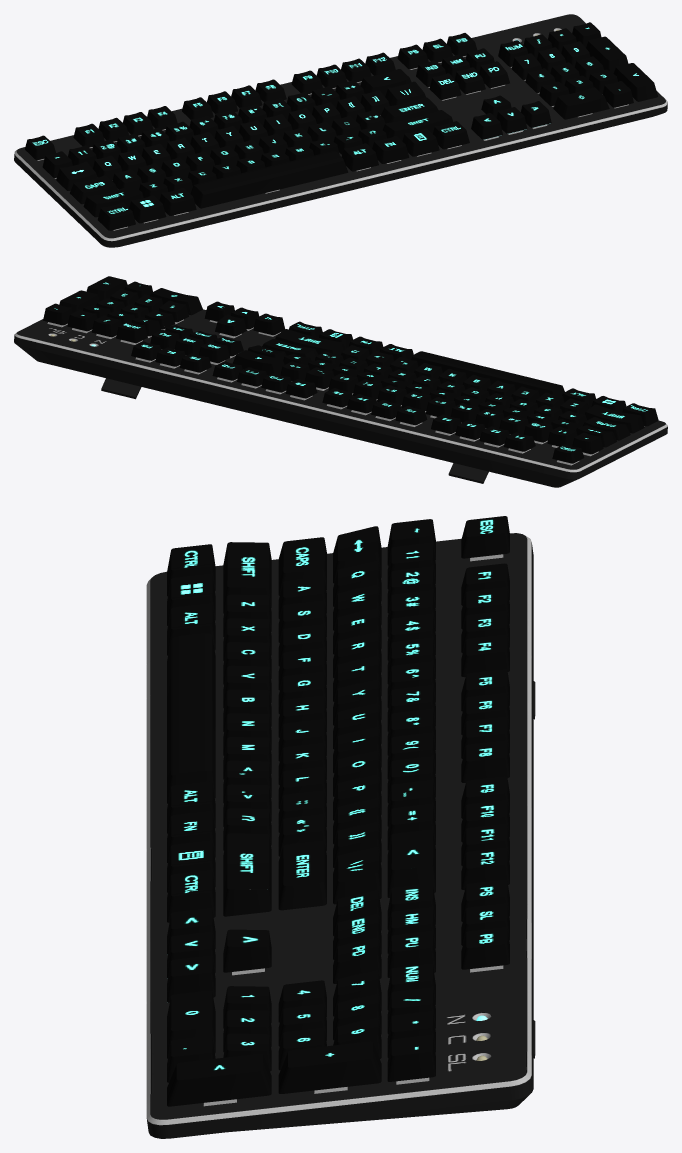
Rendered from aqua_keyboard.glb.
The picture shows the model from 3 angles, top to bottom: view 1: azimuth 30°, elevation 25°; view 2: azimuth 150°, elevation 25°; view 3: azimuth 270°, elevation 25°; orthographic projection. The views are drawn at different scales.
Visible parts, largest first — view 1: keys, keyboard; view 2: keys, keyboard, legs; view 3: keys, keyboard.
Boxes of the visible parts, box(x1,y1,x2,y2) form: keys: box(25, 22, 657, 230); keyboard: box(14, 14, 667, 247); keys: box(43, 276, 658, 463); keyboard: box(14, 309, 667, 487); legs: box(101, 378, 488, 483); keys: box(167, 516, 509, 1106); keyboard: box(146, 533, 533, 1138).
Size of the model in its own units: 40.6 by 3.12 by 12.09.
2 materials, 2 textured.
